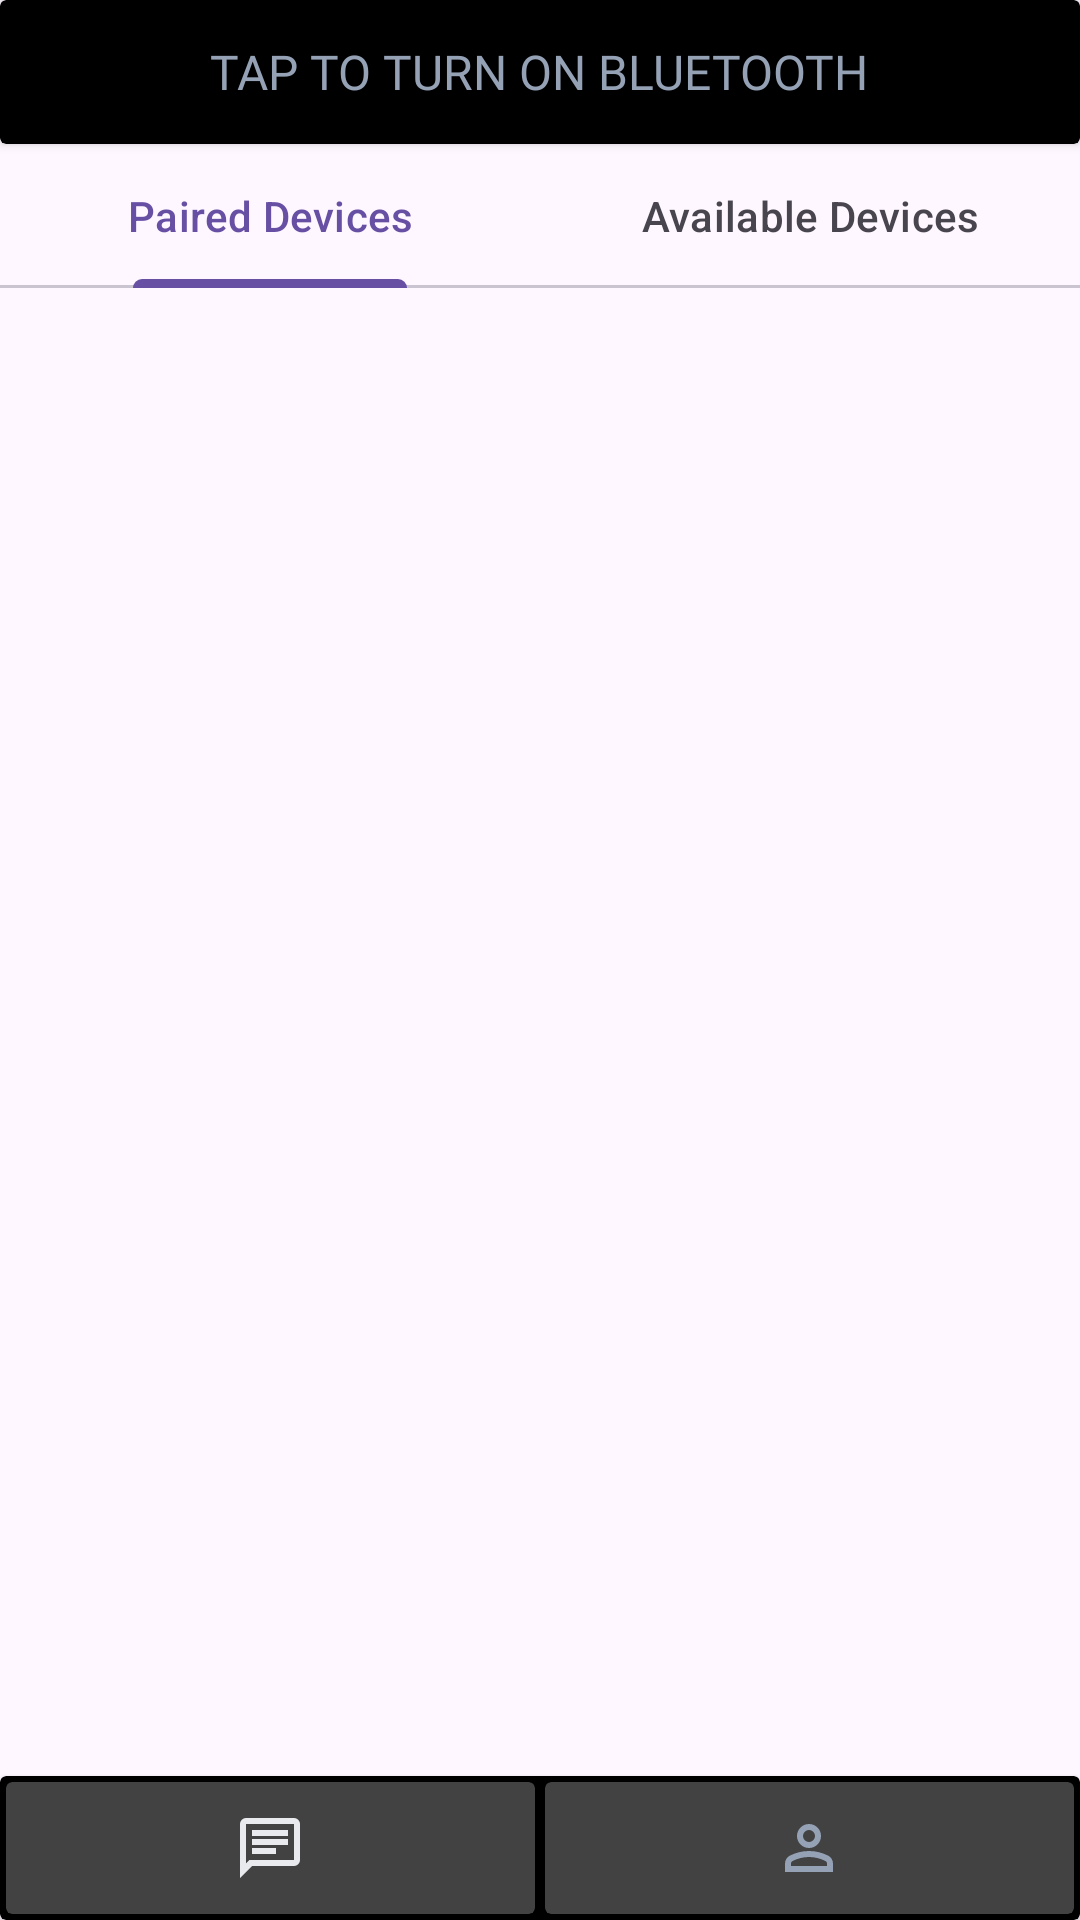

Icon click points for this 1080*1920 phone screenshot, format (x,y):
chat: (270,1848)
user: (809,1848)
